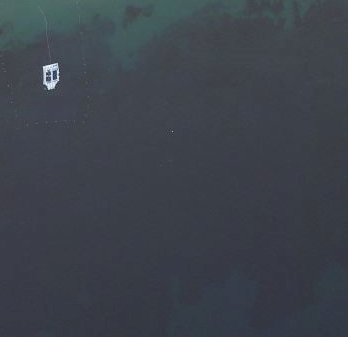ship: (40, 61, 65, 95)
